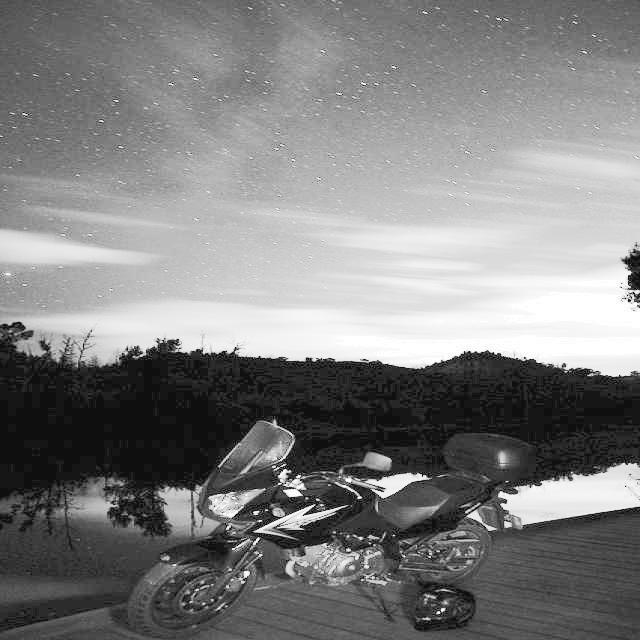Motorcycle: (109, 421, 534, 632)
